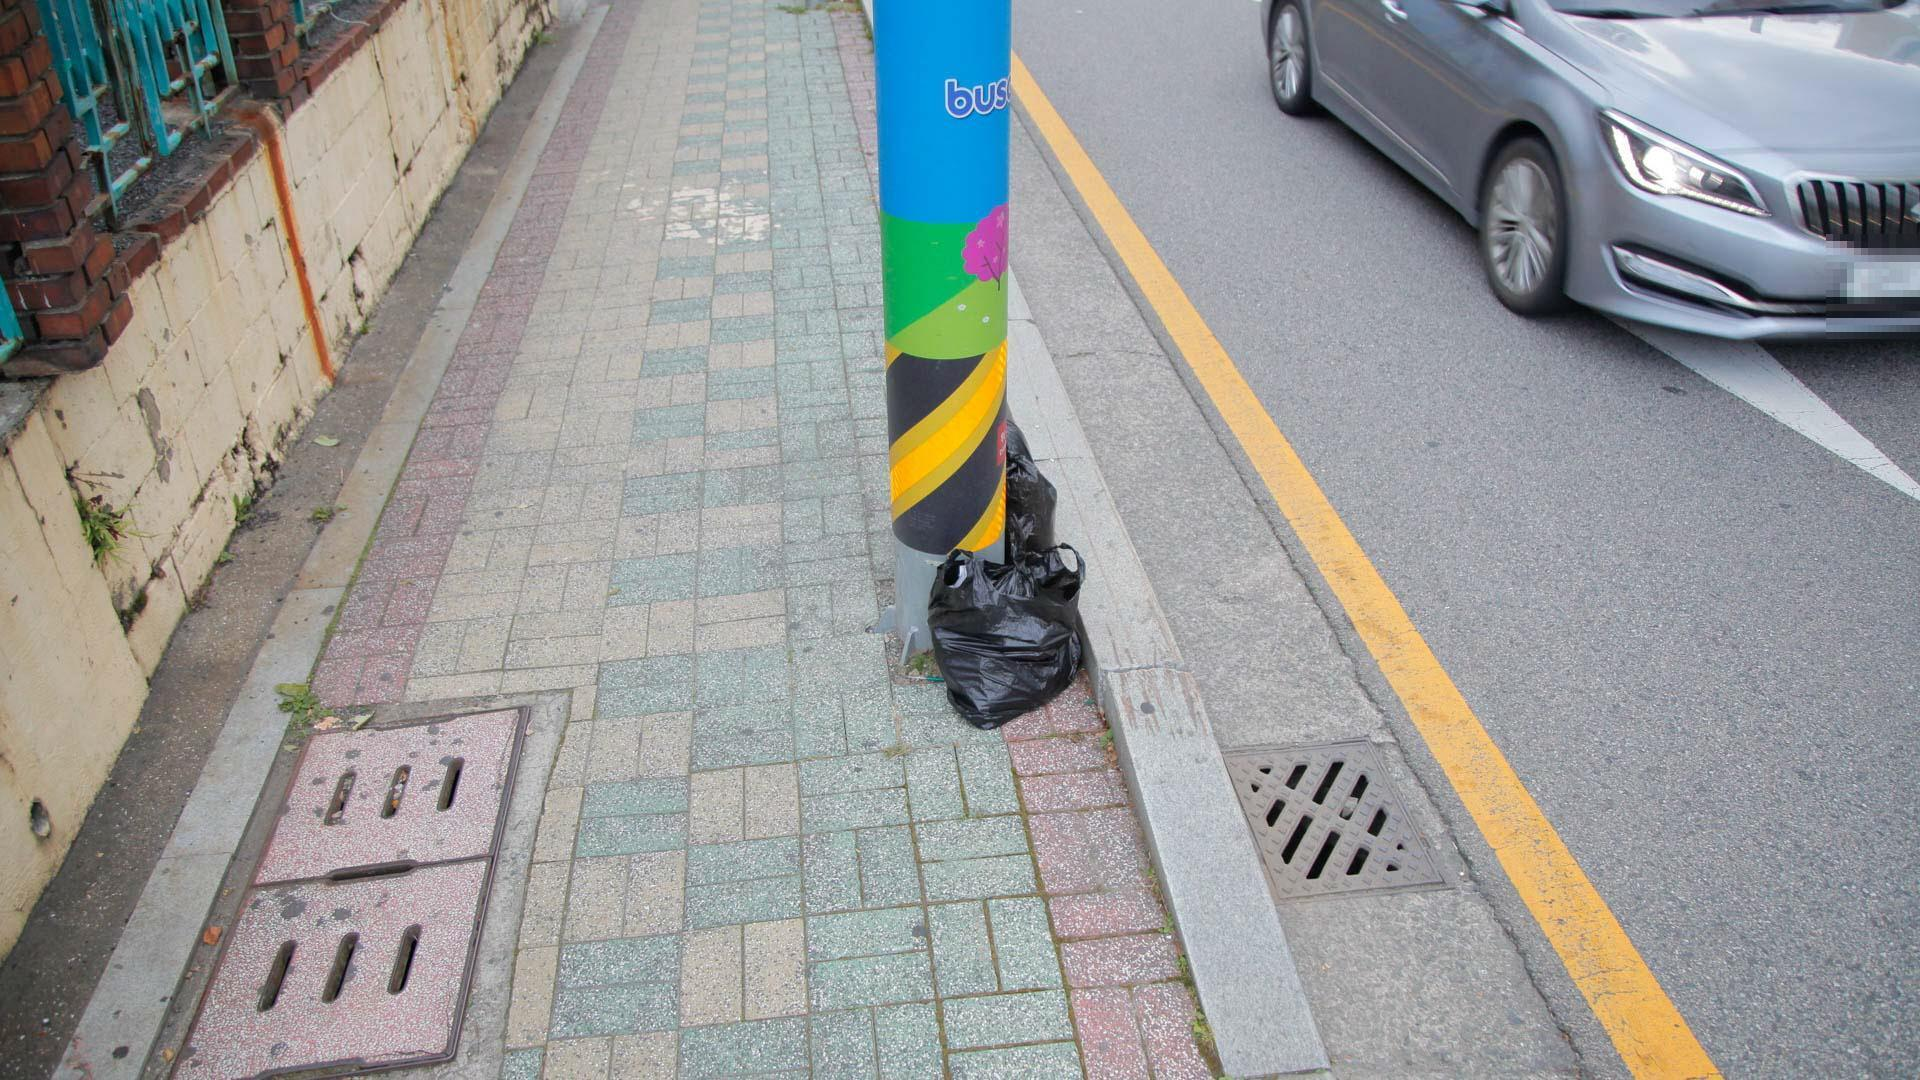black_bag: (916, 526, 1107, 738), (996, 421, 1071, 568)
